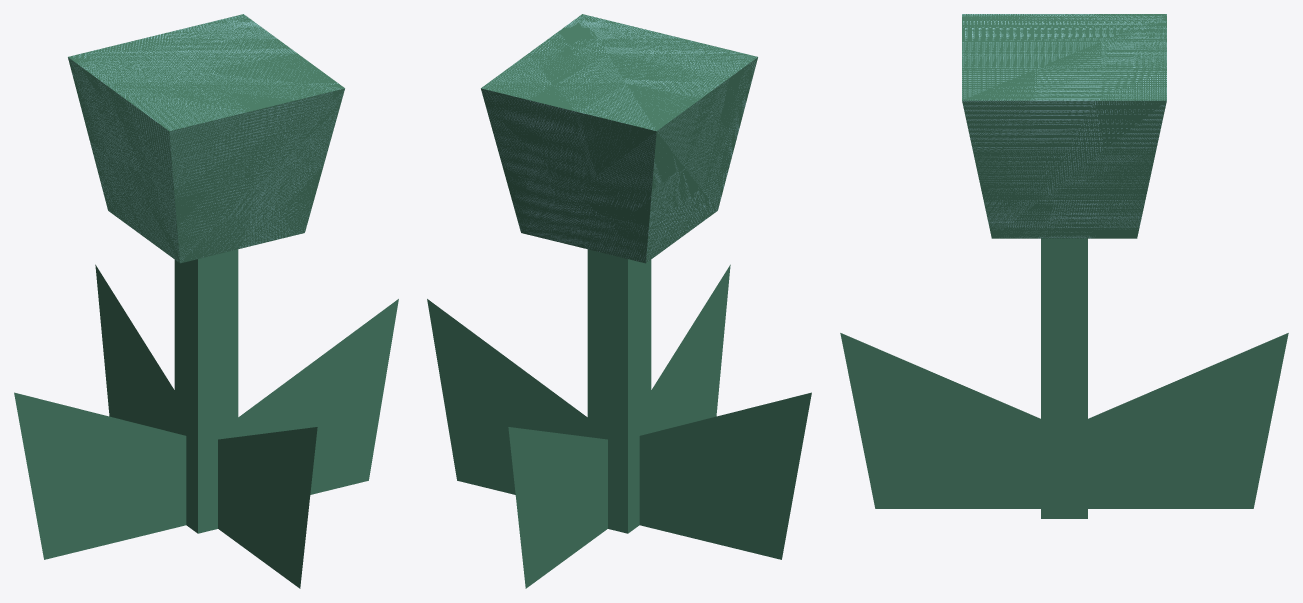
Rendered from naturePack_flat_008.fbx.
3 views of the same model, side by side, from view 1: azimuth 30°, elevation 25°; view 2: azimuth 150°, elevation 25°; view 3: azimuth 270°, elevation 25° (orthographic).
Visible parts, largest first — view 1: Mesh1_Flower_Tall_Yellow Model, Mesh5_Flower_Tall_Yellow Model, Mesh2_Flower_Tall_Yellow Model, Mesh4_Flower_Tall_Yellow Model, Mesh3_Flower_Tall_Yellow Model; view 2: Mesh1_Flower_Tall_Yellow Model, Mesh5_Flower_Tall_Yellow Model, Mesh2_Flower_Tall_Yellow Model, Mesh3_Flower_Tall_Yellow Model, Mesh4_Flower_Tall_Yellow Model; view 3: Mesh1_Flower_Tall_Yellow Model, Mesh3_Flower_Tall_Yellow Model, Mesh4_Flower_Tall_Yellow Model.
Boxes of the visible parts, <box> form: Mesh1_Flower_Tall_Yellow Model: <box>68,14,344,533</box>; Mesh5_Flower_Tall_Yellow Model: <box>14,392,186,559</box>; Mesh2_Flower_Tall_Yellow Model: <box>238,299,398,494</box>; Mesh4_Flower_Tall_Yellow Model: <box>218,427,317,588</box>; Mesh3_Flower_Tall_Yellow Model: <box>95,264,174,432</box>; Mesh1_Flower_Tall_Yellow Model: <box>481,14,757,533</box>; Mesh5_Flower_Tall_Yellow Model: <box>639,392,811,559</box>; Mesh2_Flower_Tall_Yellow Model: <box>427,299,587,494</box>; Mesh3_Flower_Tall_Yellow Model: <box>508,427,607,588</box>; Mesh4_Flower_Tall_Yellow Model: <box>651,264,730,432</box>; Mesh1_Flower_Tall_Yellow Model: <box>962,14,1166,518</box>; Mesh3_Flower_Tall_Yellow Model: <box>1088,333,1288,508</box>; Mesh4_Flower_Tall_Yellow Model: <box>840,333,1040,508</box>.
Bounding box in the file's own units: 0.4859 × 0.54 × 0.4859.
